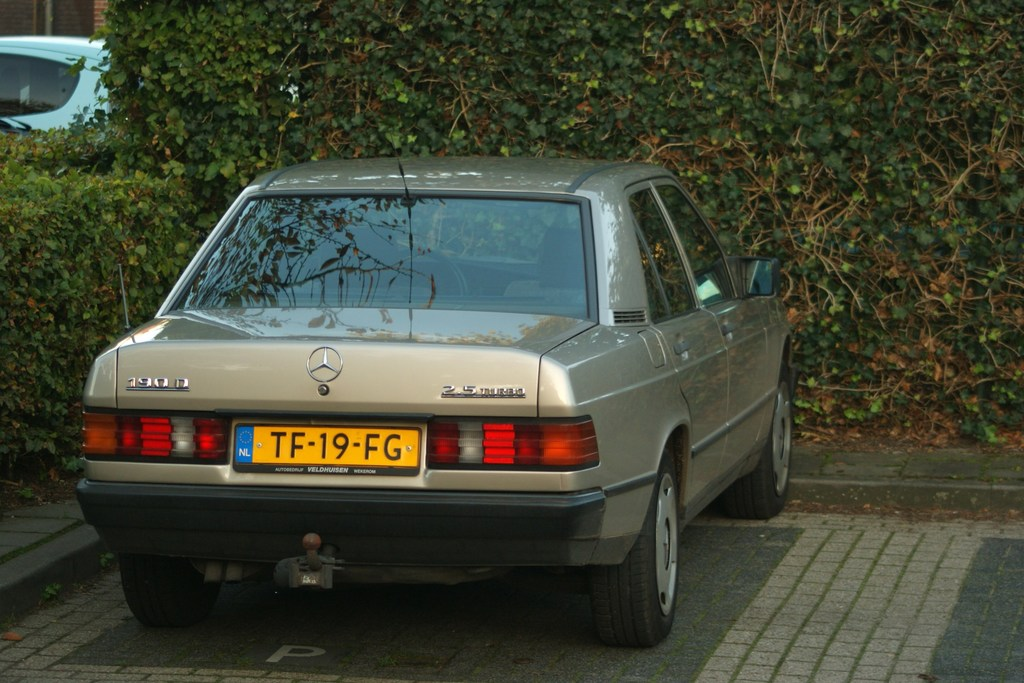Car: (46, 158, 819, 652), (0, 38, 302, 130)
